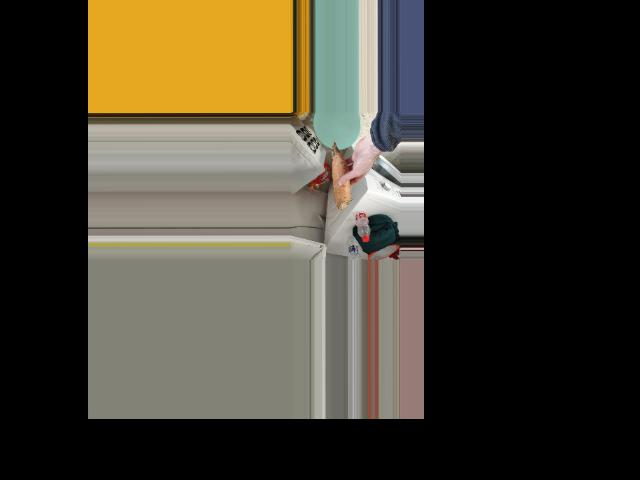sweet_potato: (332, 145, 351, 208)
